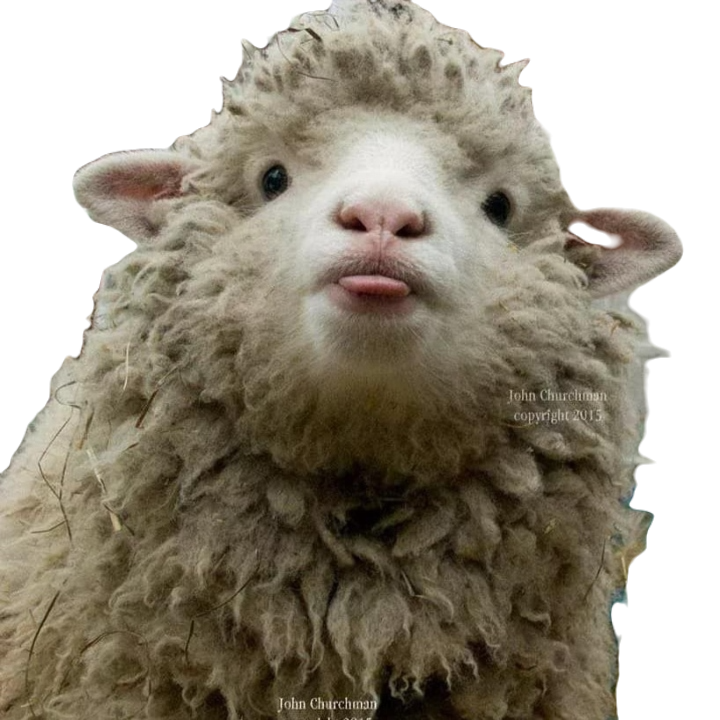Sheep: (0, 0, 686, 719)
